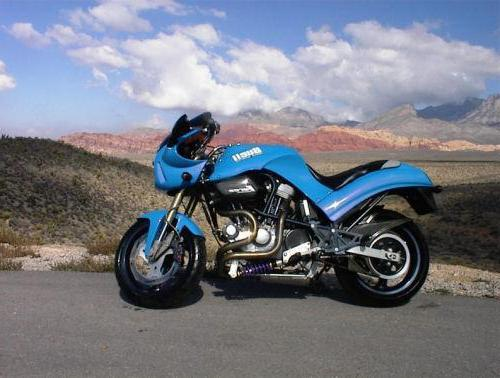motorcycle: (94, 107, 455, 320)
